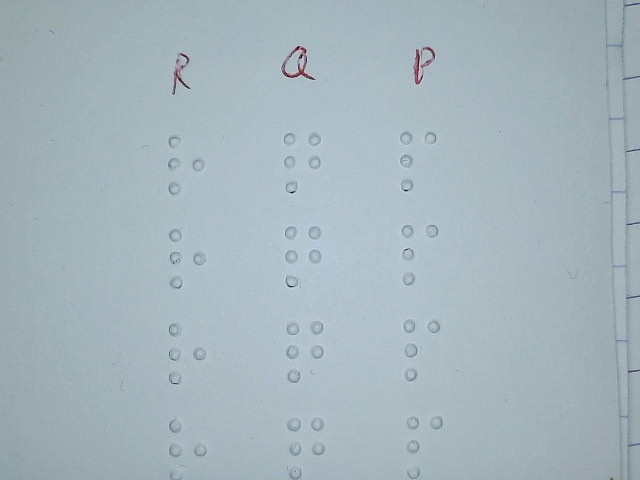P: (397, 128, 439, 193), (399, 221, 441, 286), (401, 317, 443, 382), (403, 415, 445, 480)
Q: (281, 129, 323, 194), (282, 223, 324, 288), (284, 318, 326, 383), (285, 415, 327, 480)
R: (165, 132, 207, 197), (166, 226, 208, 291), (166, 320, 208, 385)
